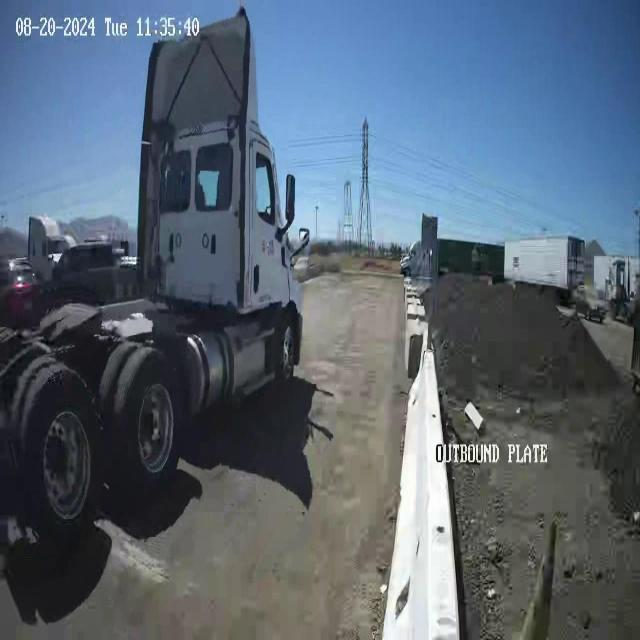TRUCK_IN: (1, 5, 309, 554)
